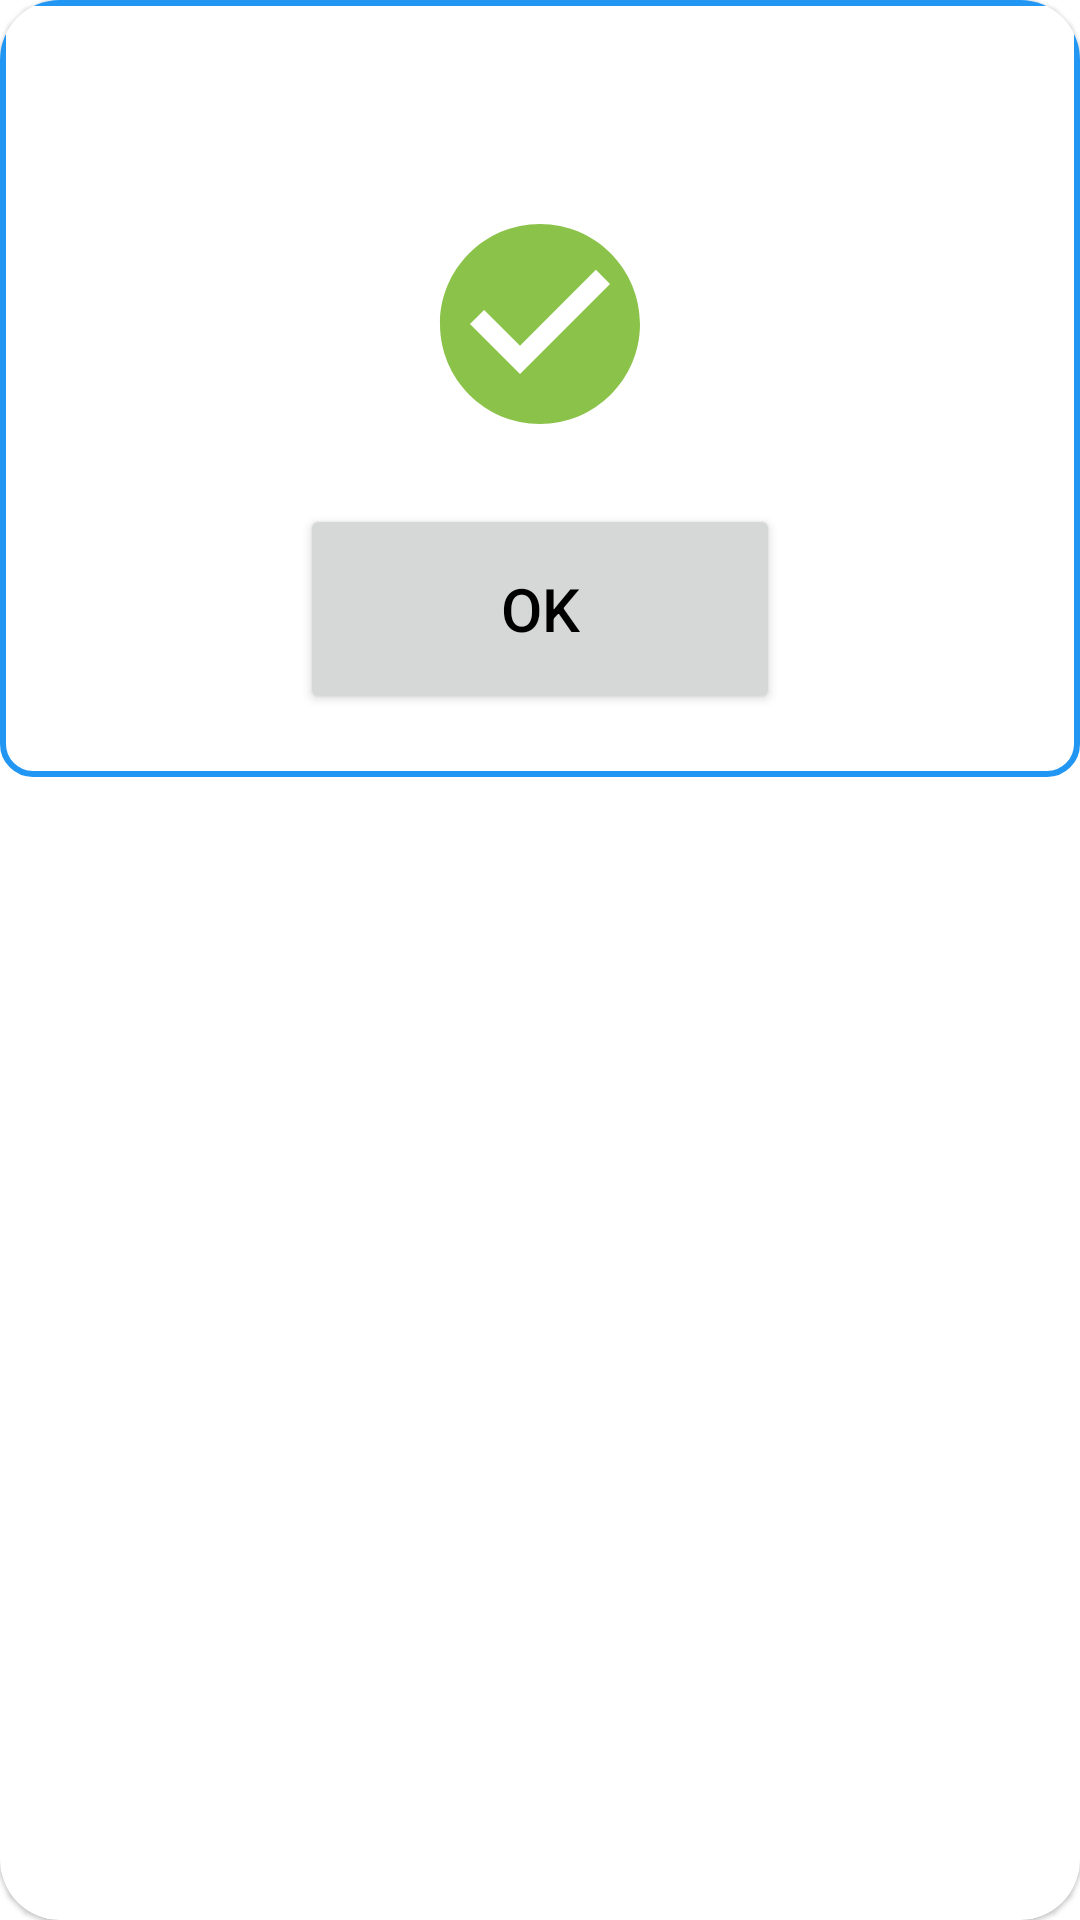

Where icons sit on this 1080w x 1920h app screen, as (x1, y1, x2, y2):
check circle: (440, 224, 640, 424)
